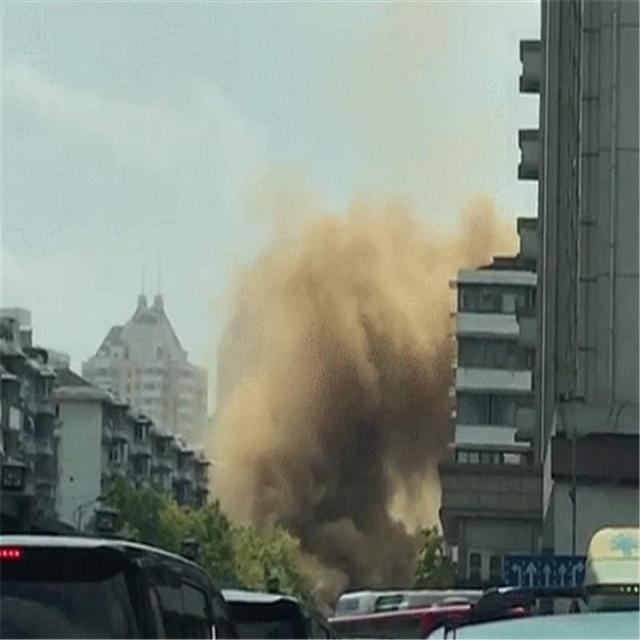Smoke: (204, 168, 519, 600)
